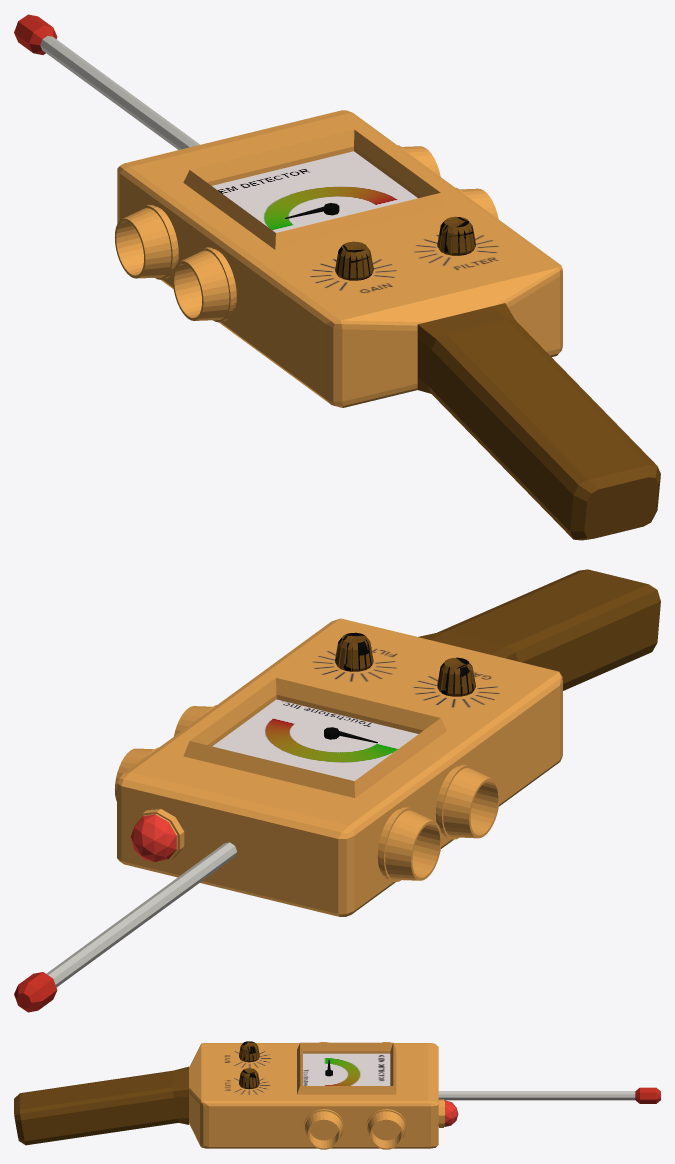
Rendered from GemSensor_baked.fbx.
3 views of the same model, one above another, from view 1: azimuth 30°, elevation 25°; view 2: azimuth 150°, elevation 25°; view 3: azimuth 270°, elevation 25° (orthographic). The views are drawn at different scales.
Visible parts, largest first — view 1: Detector Case, Handle, Detector Face, Gem Holders, Control Dials; view 2: Detector Case, Handle, Detector Face, Gem Holders, Control Dials, Detector Light Cover; view 3: Detector Case, Handle, Detector Face, Gem Holders, Control Dials, Detector Light Cover, Detector Light Ring.
Part boxes in pixels (box(x1,y1,x2,y2)): Detector Case: box(14, 14, 562, 407); Handle: box(417, 303, 660, 540); Detector Face: box(212, 151, 417, 232); Gem Holders: box(114, 145, 498, 322); Control Dials: box(335, 216, 475, 280); Detector Case: box(14, 618, 562, 1012); Handle: box(418, 569, 660, 690); Detector Face: box(212, 699, 418, 780); Gem Holders: box(114, 705, 499, 882); Control Dials: box(335, 632, 475, 696); Detector Light Cover: box(130, 814, 176, 861); Detector Case: box(189, 1042, 660, 1148); Handle: box(14, 1066, 188, 1145); Detector Face: box(303, 1053, 390, 1085); Gem Holders: box(303, 1042, 406, 1149); Control Dials: box(239, 1041, 259, 1089); Detector Light Cover: box(445, 1100, 458, 1126); Detector Light Ring: box(438, 1099, 444, 1127).
Size of the model in its own units: 8.84 by 4.19 by 31.02.
7 materials, 5 textured.
